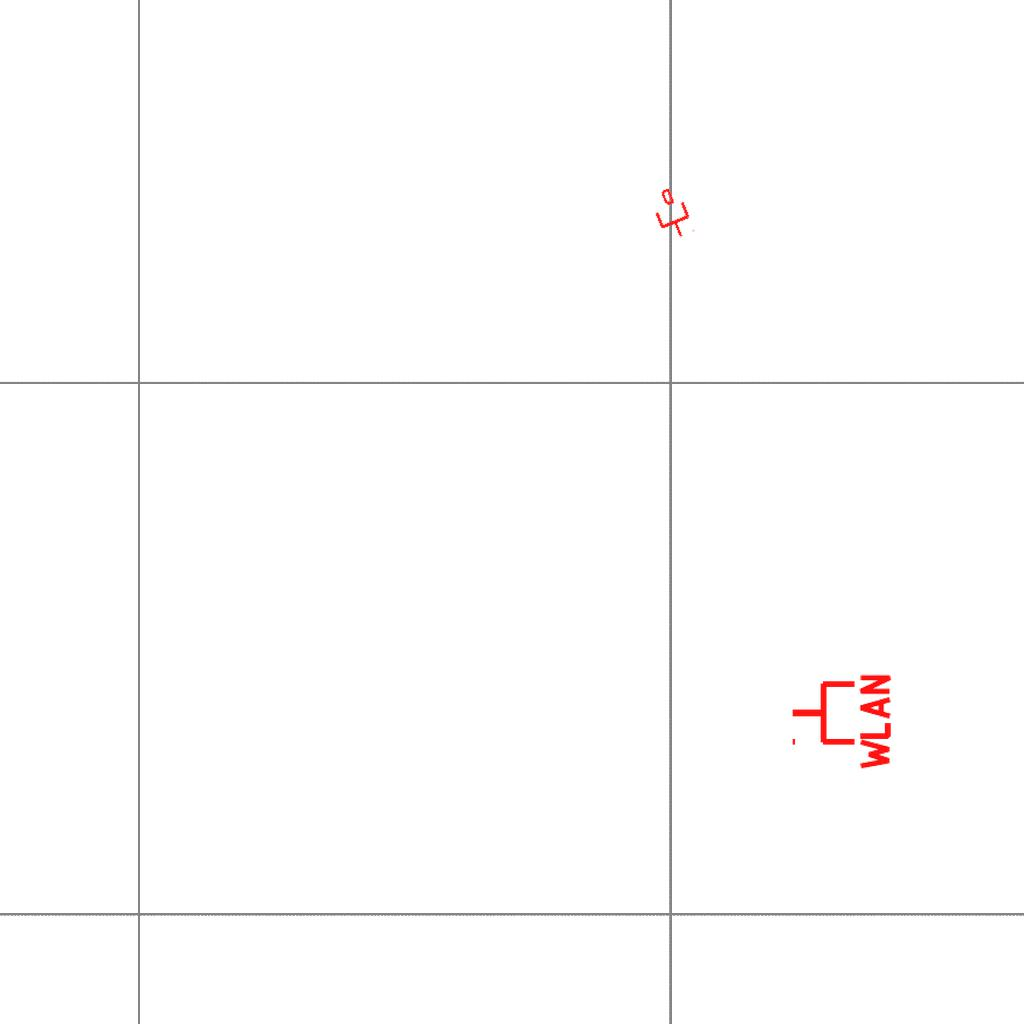Datenanschluss_einfach: (646, 184, 698, 244)
WLAN: (788, 670, 893, 774)
